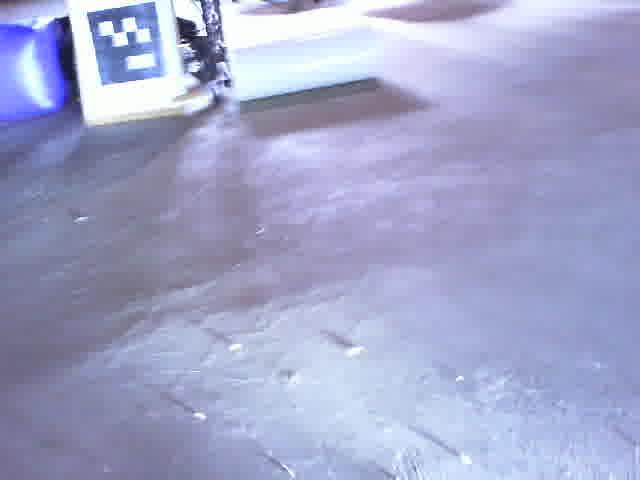coral: (226, 21, 385, 101)
